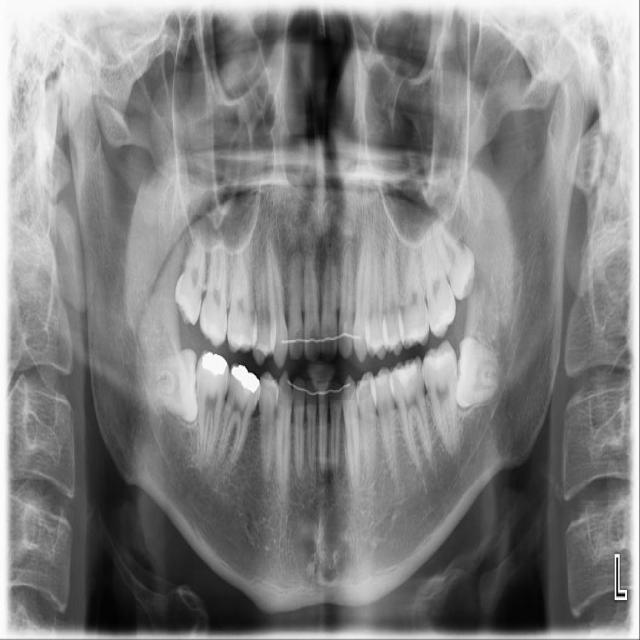Filling: (387, 361, 421, 386), (199, 354, 230, 376), (233, 364, 258, 391)
impacted tooth: (144, 349, 198, 425), (459, 335, 508, 412), (431, 217, 476, 299)
